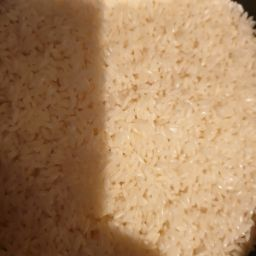Rice: (6, 7, 215, 256), (24, 22, 151, 214), (160, 16, 256, 215)
